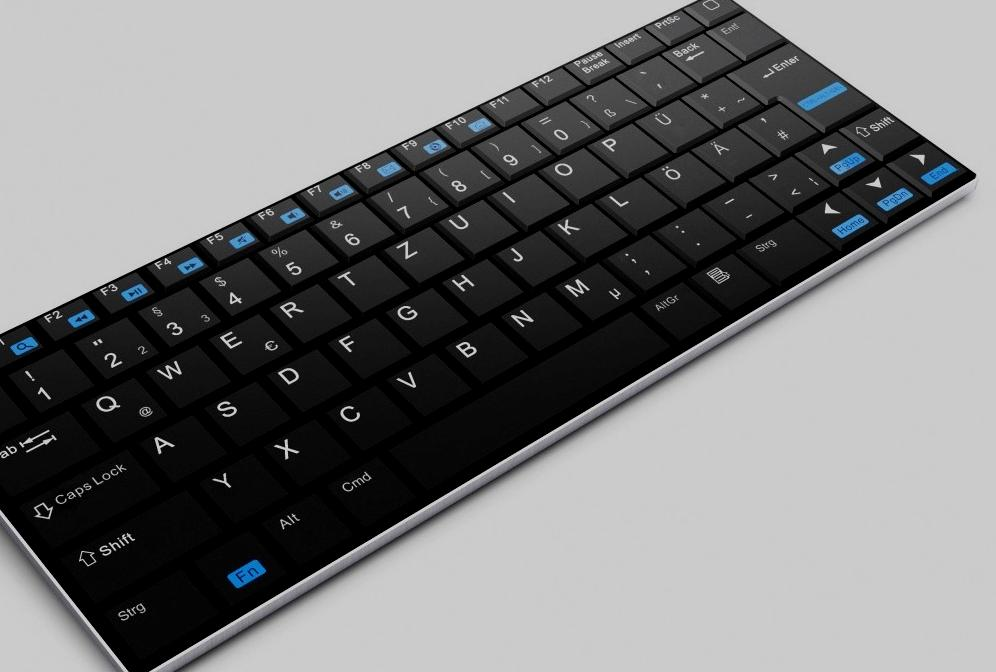0: (519, 99, 598, 148)
1: (3, 345, 95, 410)
2: (69, 313, 159, 378)
3: (131, 285, 222, 344)
4: (190, 254, 280, 313)
5: (248, 225, 338, 285)
6: (308, 198, 396, 255)
7: (366, 172, 449, 226)
8: (420, 147, 499, 200)
9: (471, 124, 551, 173)
a: (133, 411, 226, 481)
accent: (614, 54, 691, 99)
ae: (690, 126, 769, 176)
alt-left: (254, 491, 351, 567)
altgr-right: (633, 281, 722, 341)
b: (435, 319, 527, 383)
c: (317, 383, 413, 451)
caret: (1, 377, 49, 449)
comma: (601, 233, 683, 288)
d: (258, 346, 351, 413)
del: (665, 34, 742, 79)
e: (200, 311, 293, 374)
enter: (725, 42, 879, 133)
f: (320, 316, 409, 377)
g: (375, 285, 467, 347)
h: (435, 257, 521, 315)
hash: (735, 100, 815, 151)
i: (485, 172, 569, 224)
j: (490, 228, 575, 285)
k: (543, 202, 627, 257)
keyboard: (1, 1, 983, 672)
l: (594, 175, 674, 229)
less: (747, 154, 829, 208)
m: (547, 262, 633, 321)
minus: (699, 181, 783, 234)
n: (493, 290, 581, 351)
o: (534, 147, 618, 199)
oe: (640, 150, 723, 204)
p: (584, 122, 666, 172)
plus: (679, 74, 759, 122)
point: (651, 207, 733, 260)
q: (71, 374, 169, 442)
r: (261, 282, 351, 341)
s: (193, 378, 291, 446)
shift-left: (59, 487, 225, 606)
shift-lock: (15, 450, 167, 550)
shift-right: (839, 109, 919, 160)
space: (380, 303, 667, 493)
ss: (567, 76, 645, 124)
strg-left: (96, 563, 223, 666)
strg-right: (733, 216, 831, 281)
t: (320, 253, 408, 310)
tab: (1, 409, 101, 497)
u: (431, 198, 516, 253)
ue: (632, 98, 714, 148)
v: (379, 351, 471, 415)
w: (138, 343, 229, 406)
x: (255, 416, 350, 486)
y: (191, 451, 287, 523)
z: (376, 227, 464, 281)
